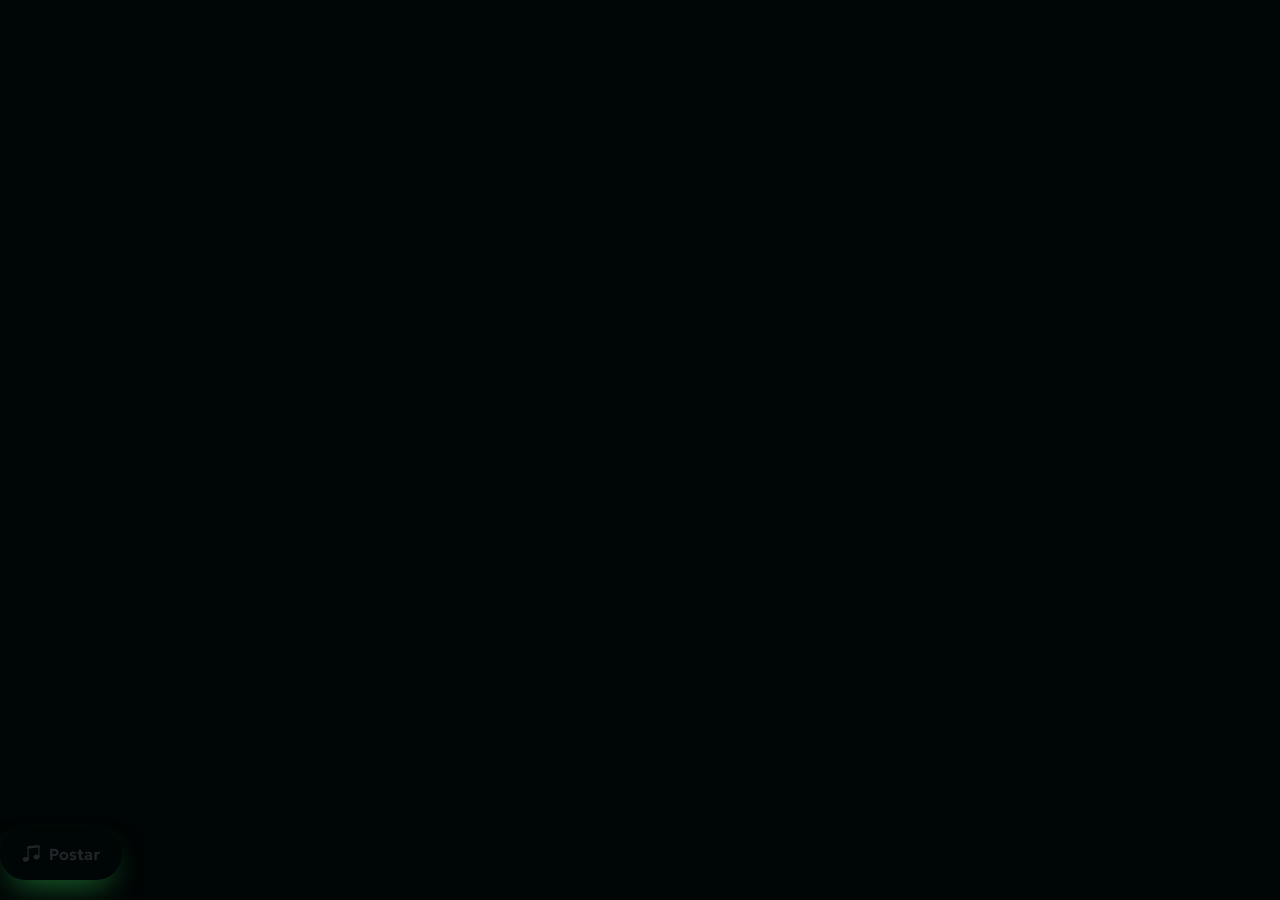
Test: CreatePost › avisa quando nada é encontrado
Click the button with aria-label "Criar post" at (61, 854), box [0, 828, 122, 880]
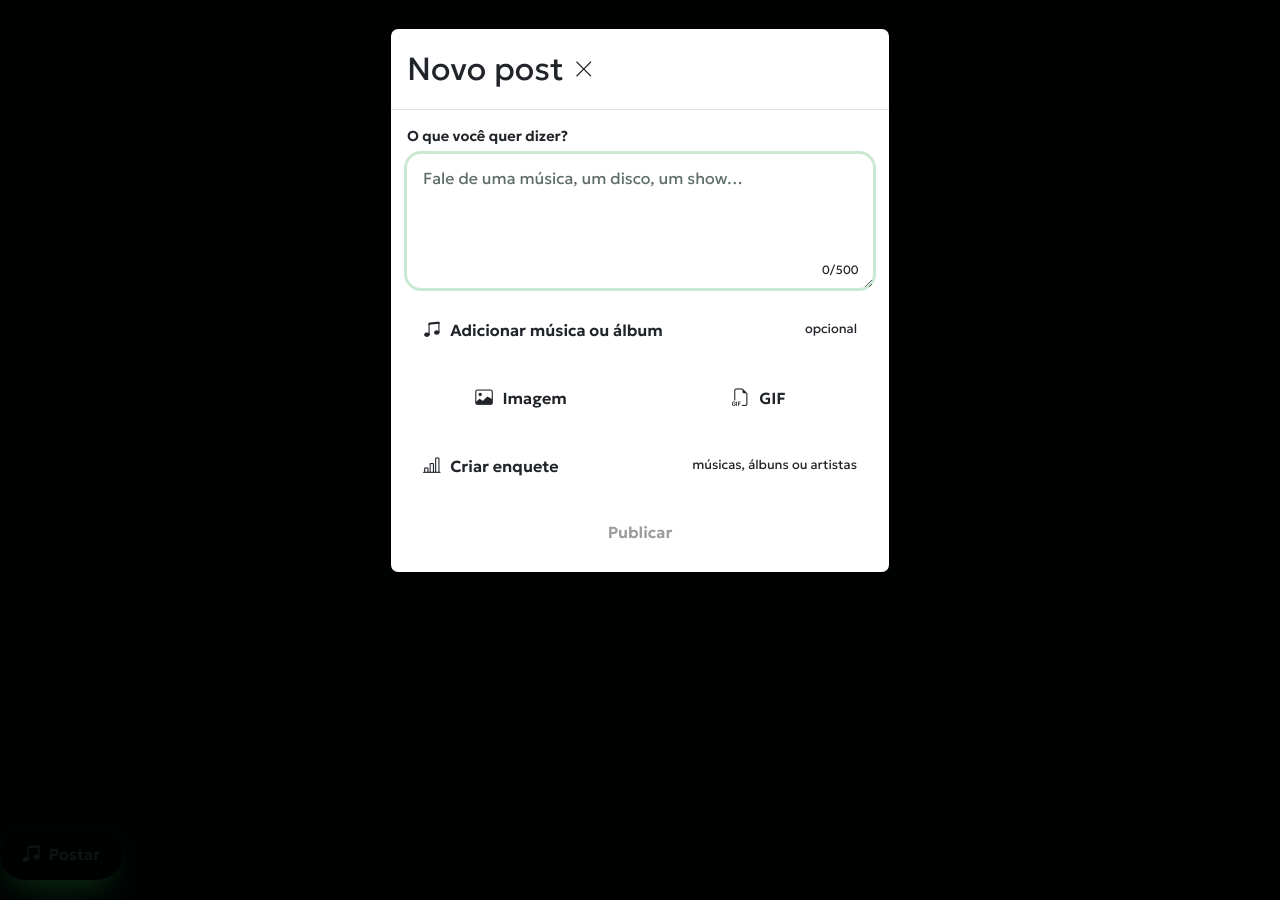
Click the button "Adicionar música ou álbum opcional" at (640, 330), box [407, 304, 873, 356]
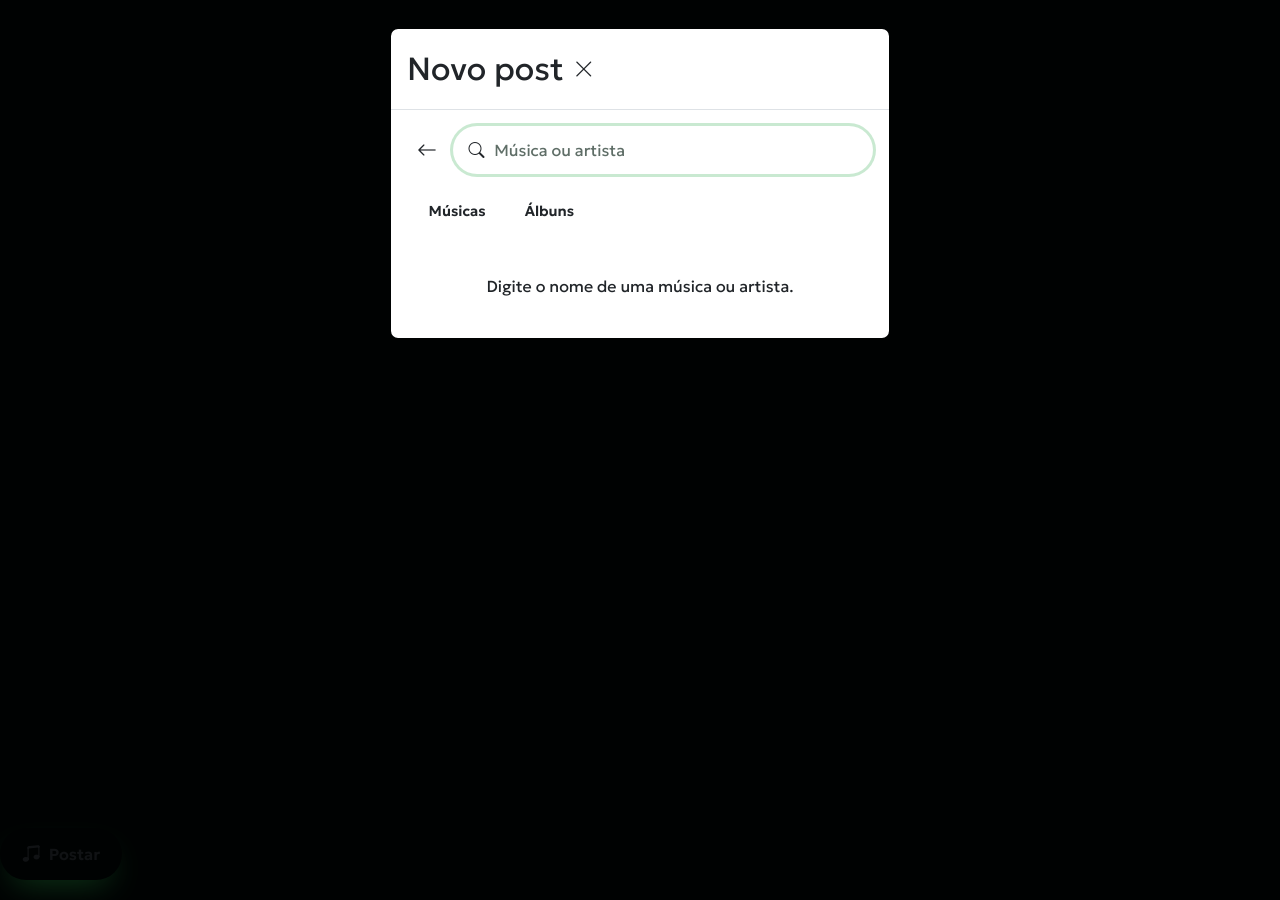
Type "xyz" into the search field named "Buscar música" at (663, 150), box [453, 126, 873, 174]
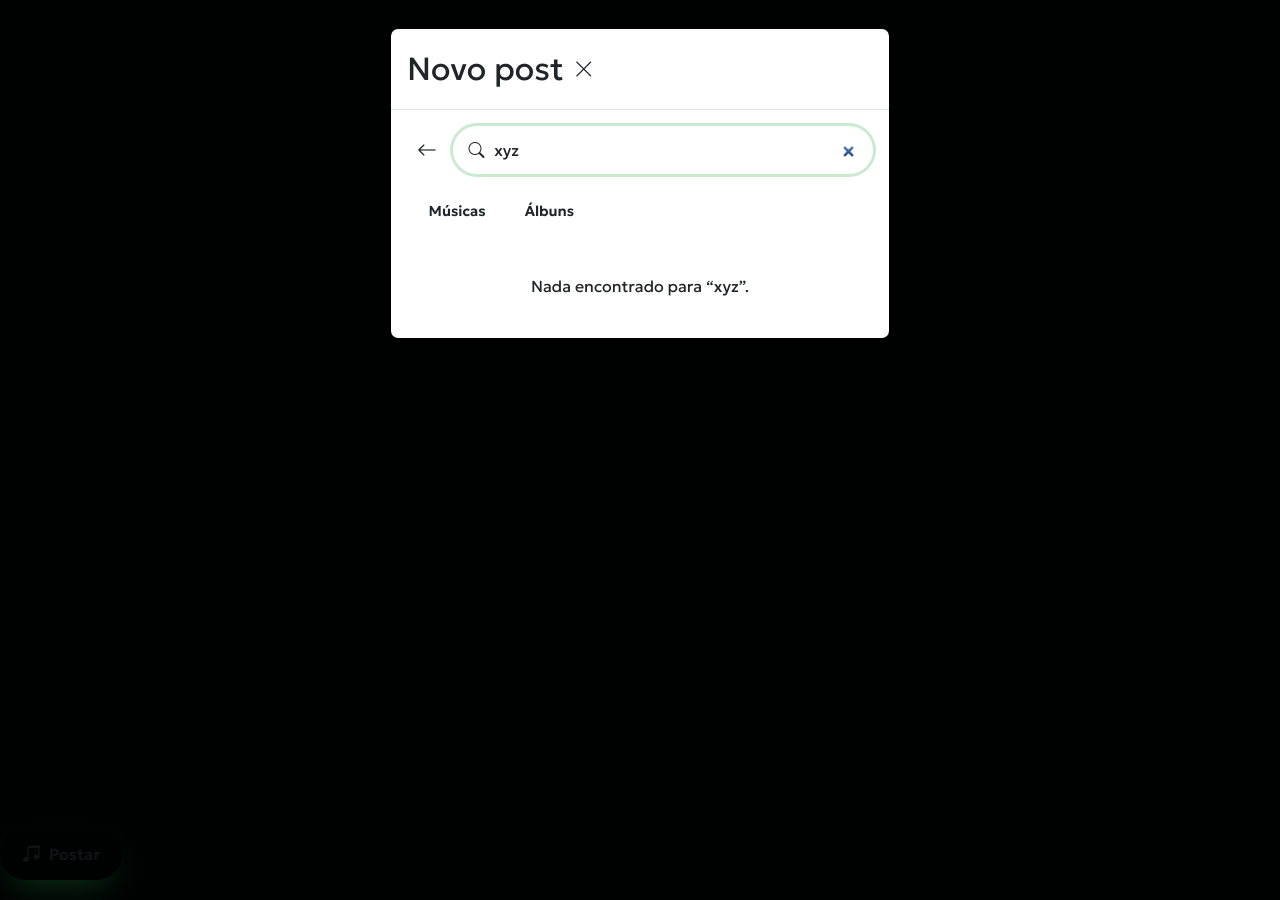
Expected: the text "Nada encontrado para “xyz”." is shown, [531, 276, 749, 296]
